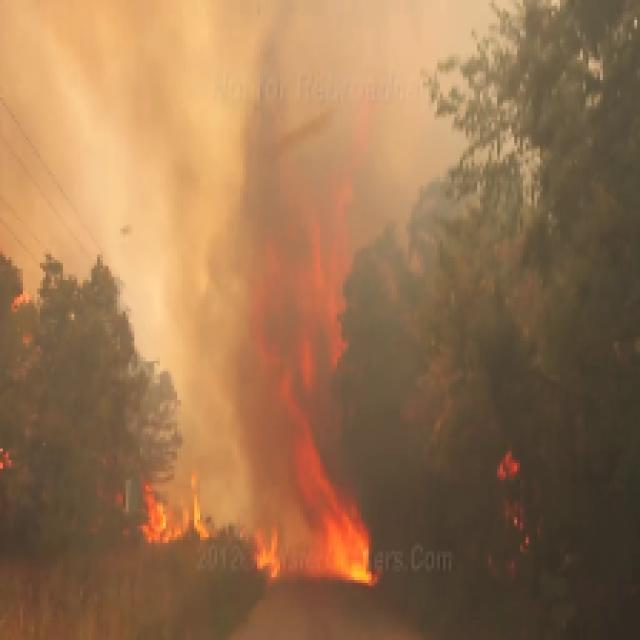Fire: (171, 222, 440, 598)
Smoke: (0, 0, 454, 317)
